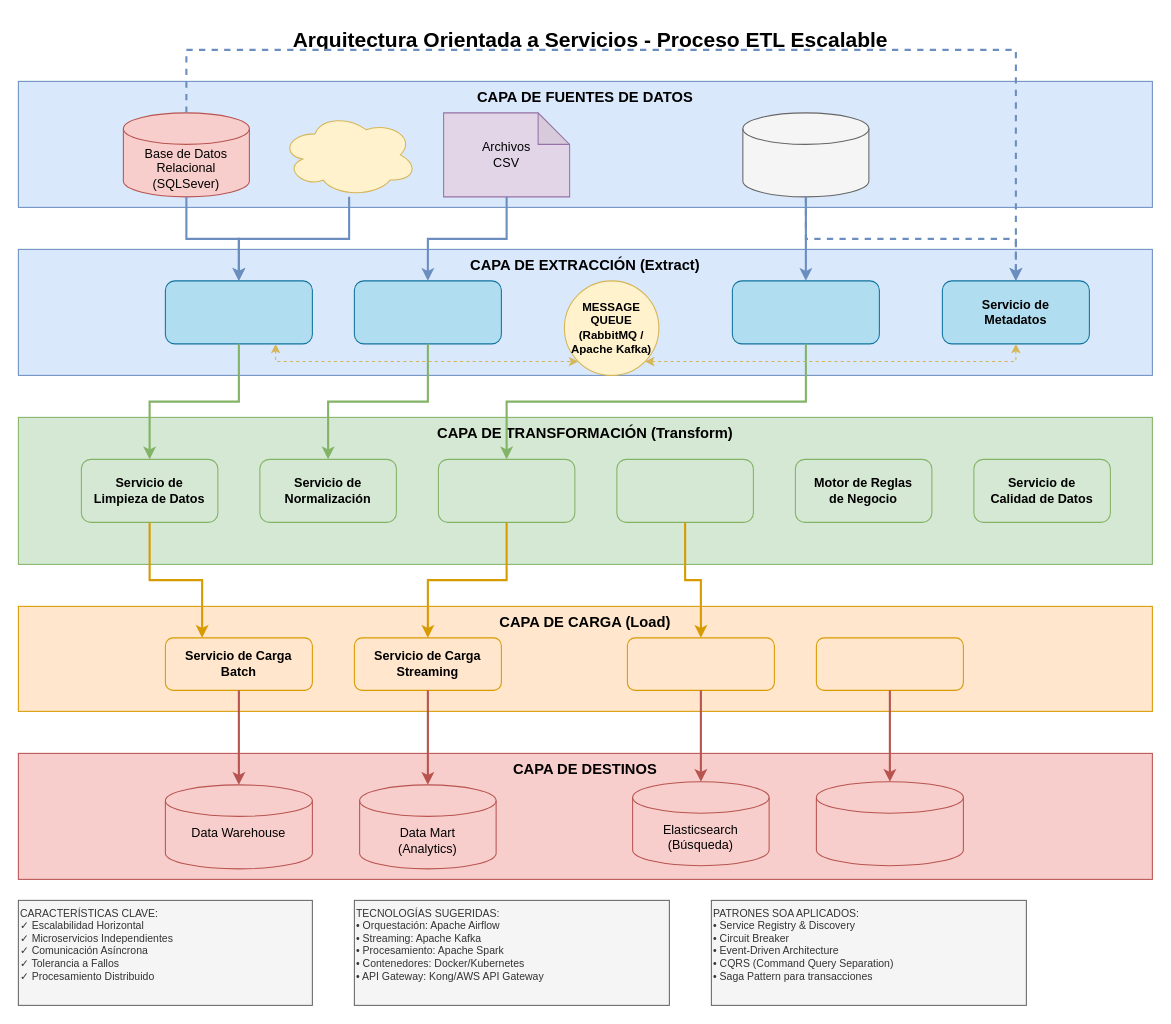
Image size: 1171x1024. Some labels were removed from this diagram. The shapes that lost their labels are listed below. From the top down, each one's centre as x and y in pixels, then its label:
At pixel 348 154: "APIs REST Externas".
At pixel 805 154: "Data Lake (S3/HDFS)".
At pixel 238 312: "Servicio Extractor".
At pixel 427 312: "Servicio Validación de Datos".
At pixel 805 312: "Servicio de Conectores".
At pixel 506 490: "Servicio de Enriquecimiento".
At pixel 684 490: "Servicio de Agregación".
At pixel 700 663: "Servicio de Carga Incremental".
At pixel 889 663: "Servicio de Indexación".
At pixel 889 823: "OLAP Cube (Analysis Services)".
